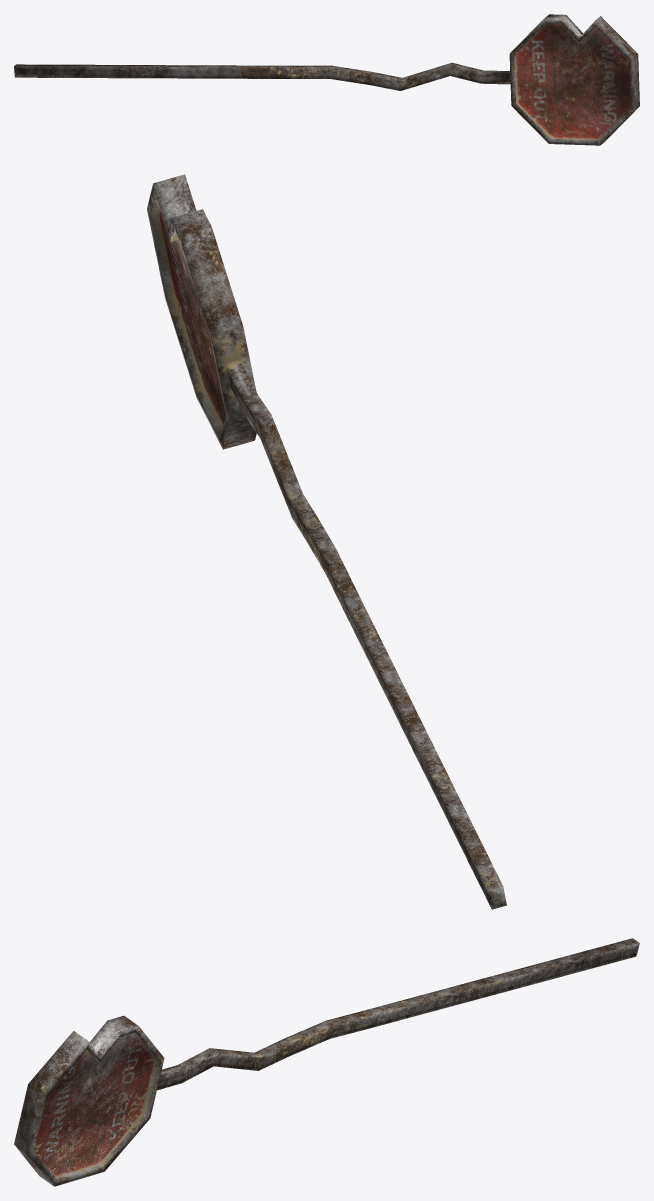
The model's file is Anim_idle_senyal_objetos.0043.obj.
3 renders of one model, top to bottom at view 1: azimuth 30°, elevation 25°; view 2: azimuth 150°, elevation 25°; view 3: azimuth 270°, elevation 25°, orthographic. The views are drawn at different scales.
Bounding box in the file's own units: 8.96 × 2.61 × 9.14.
